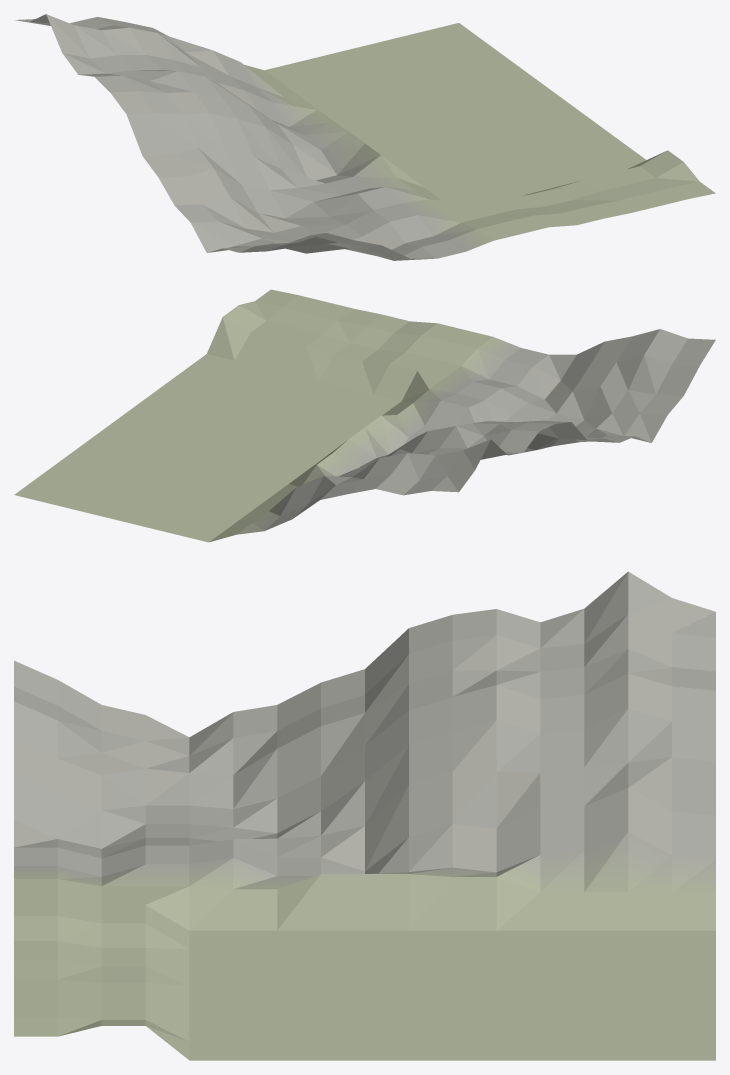
3 views of the same model, one above another, from view 1: azimuth 30°, elevation 25°; view 2: azimuth 150°, elevation 25°; view 3: azimuth 270°, elevation 25° (orthographic). The views are drawn at different scales.
Size of the model in its own units: 32 by 9.68 by 32.
